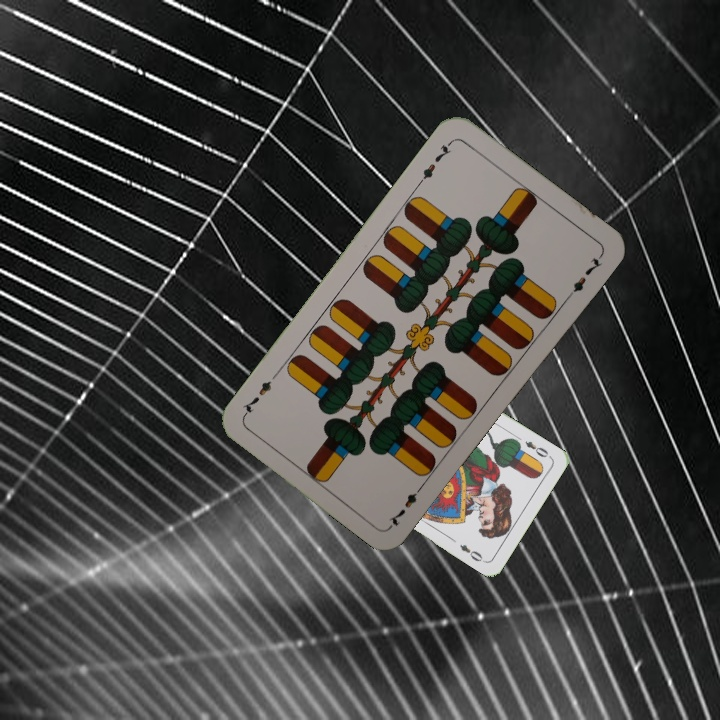E7: (384, 479, 427, 529), (414, 137, 455, 187)
EO: (521, 437, 551, 460)
